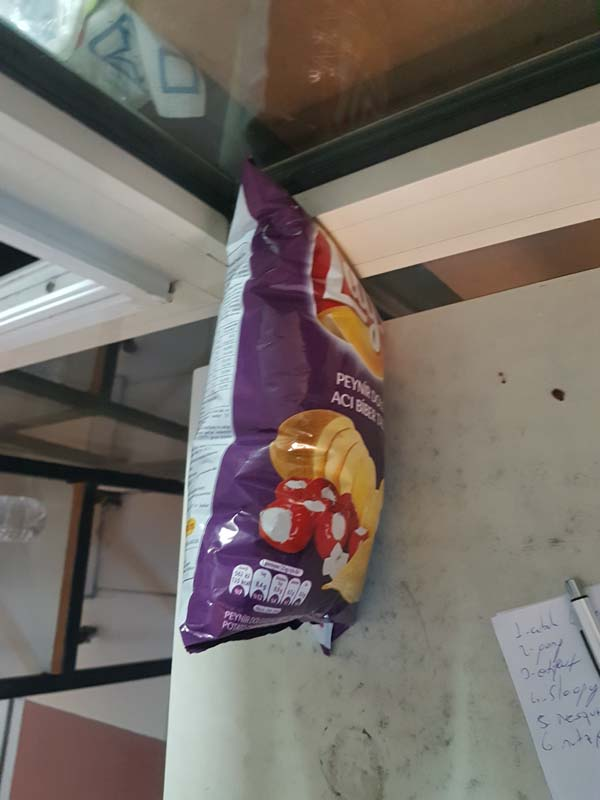layspeynirsoslu: (180, 161, 398, 650)
